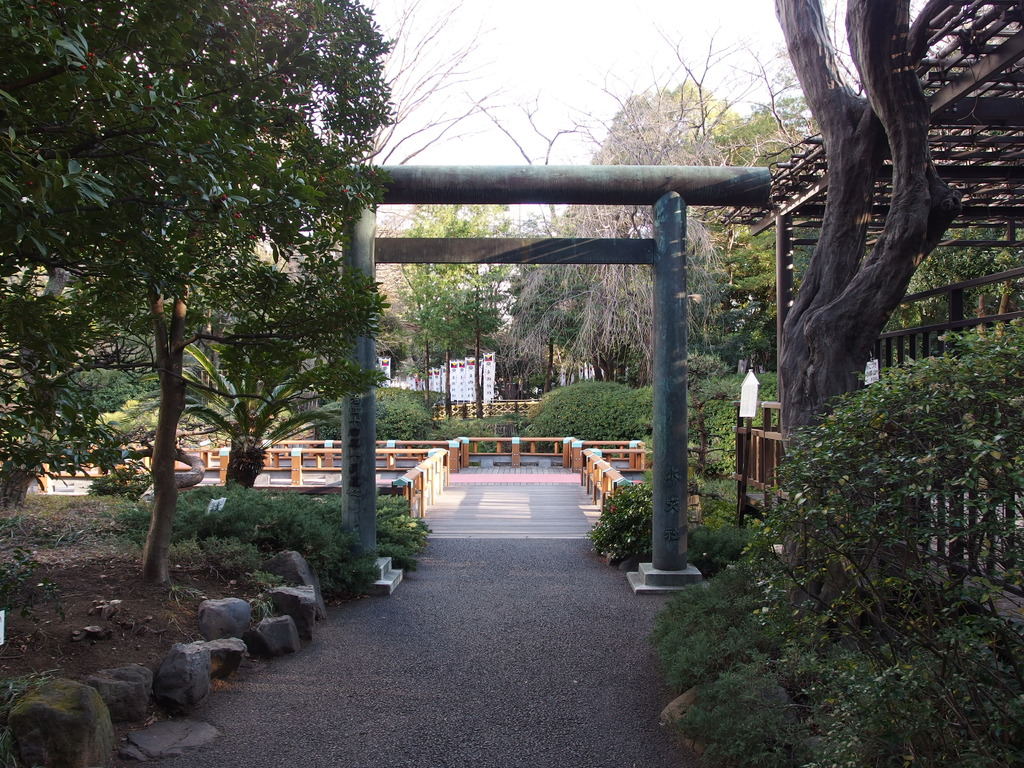Tree: (0, 86, 1023, 766), (40, 33, 387, 567)
